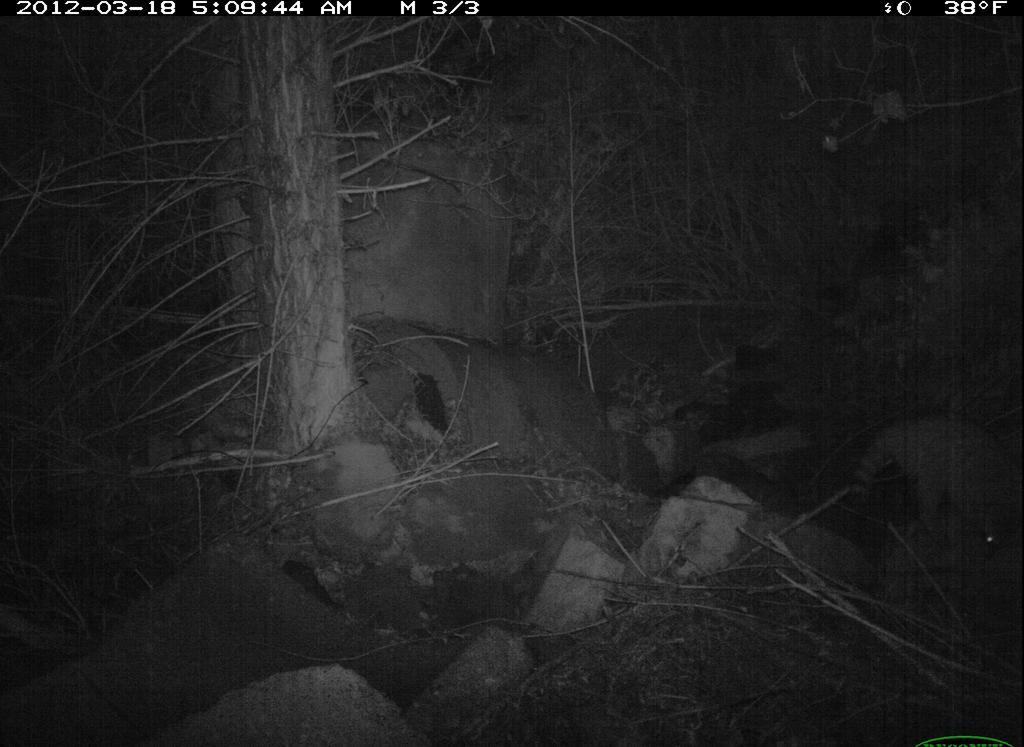raccoon: (833, 401, 1023, 571)
